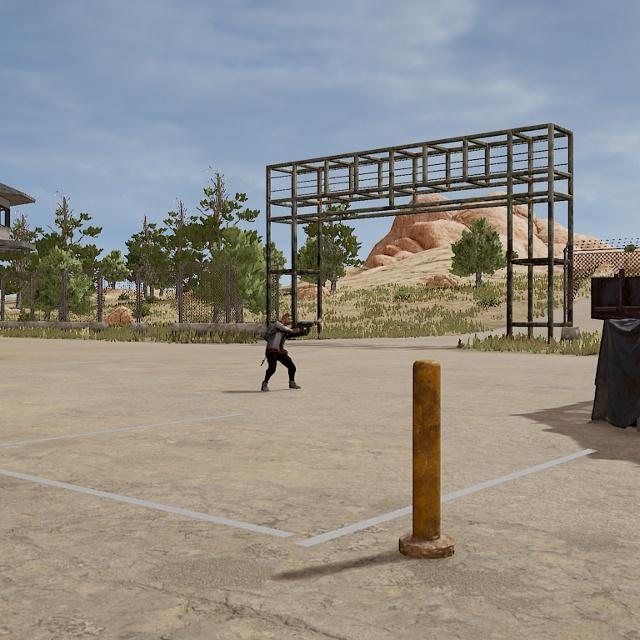people: (260, 312, 301, 392), (280, 312, 294, 328)
